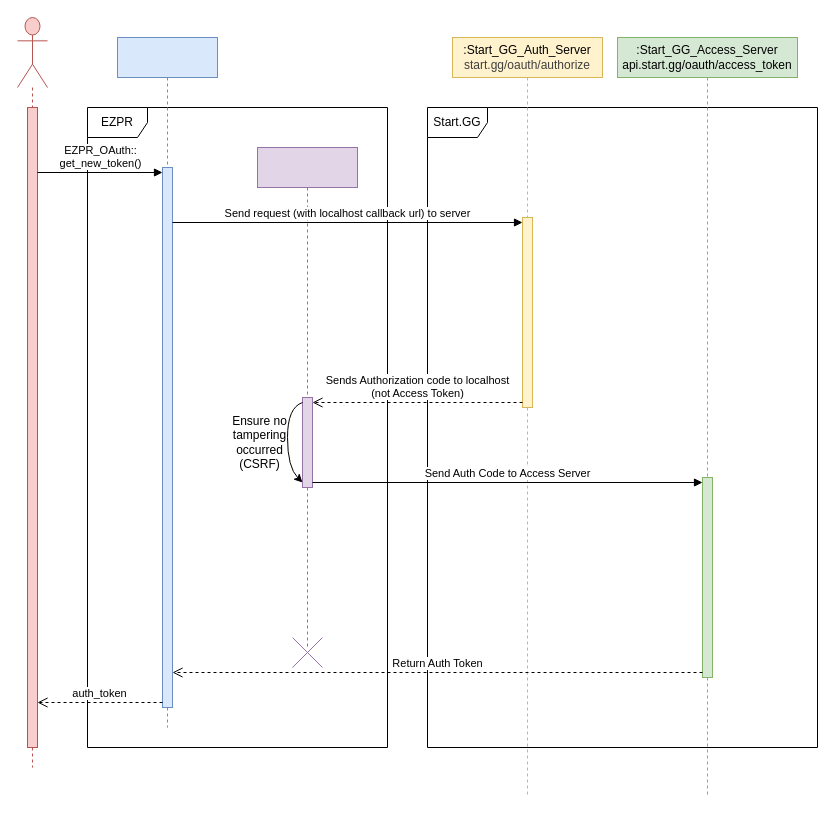
The diagram is 835 pixels wide and 815 high, and some of its shapes have lost their labels. Here are the shapes that lost their labels. From the top down, the box of each, then its label:
(116, 36, 218, 728): :EZPR_OAuth
(256, 146, 358, 648): :Redirect_Server (localhost)
